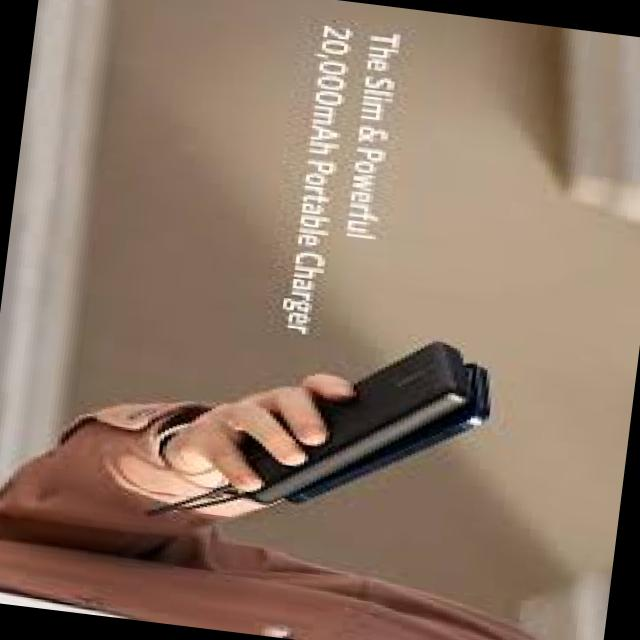power_bank: (216, 314, 477, 524)
